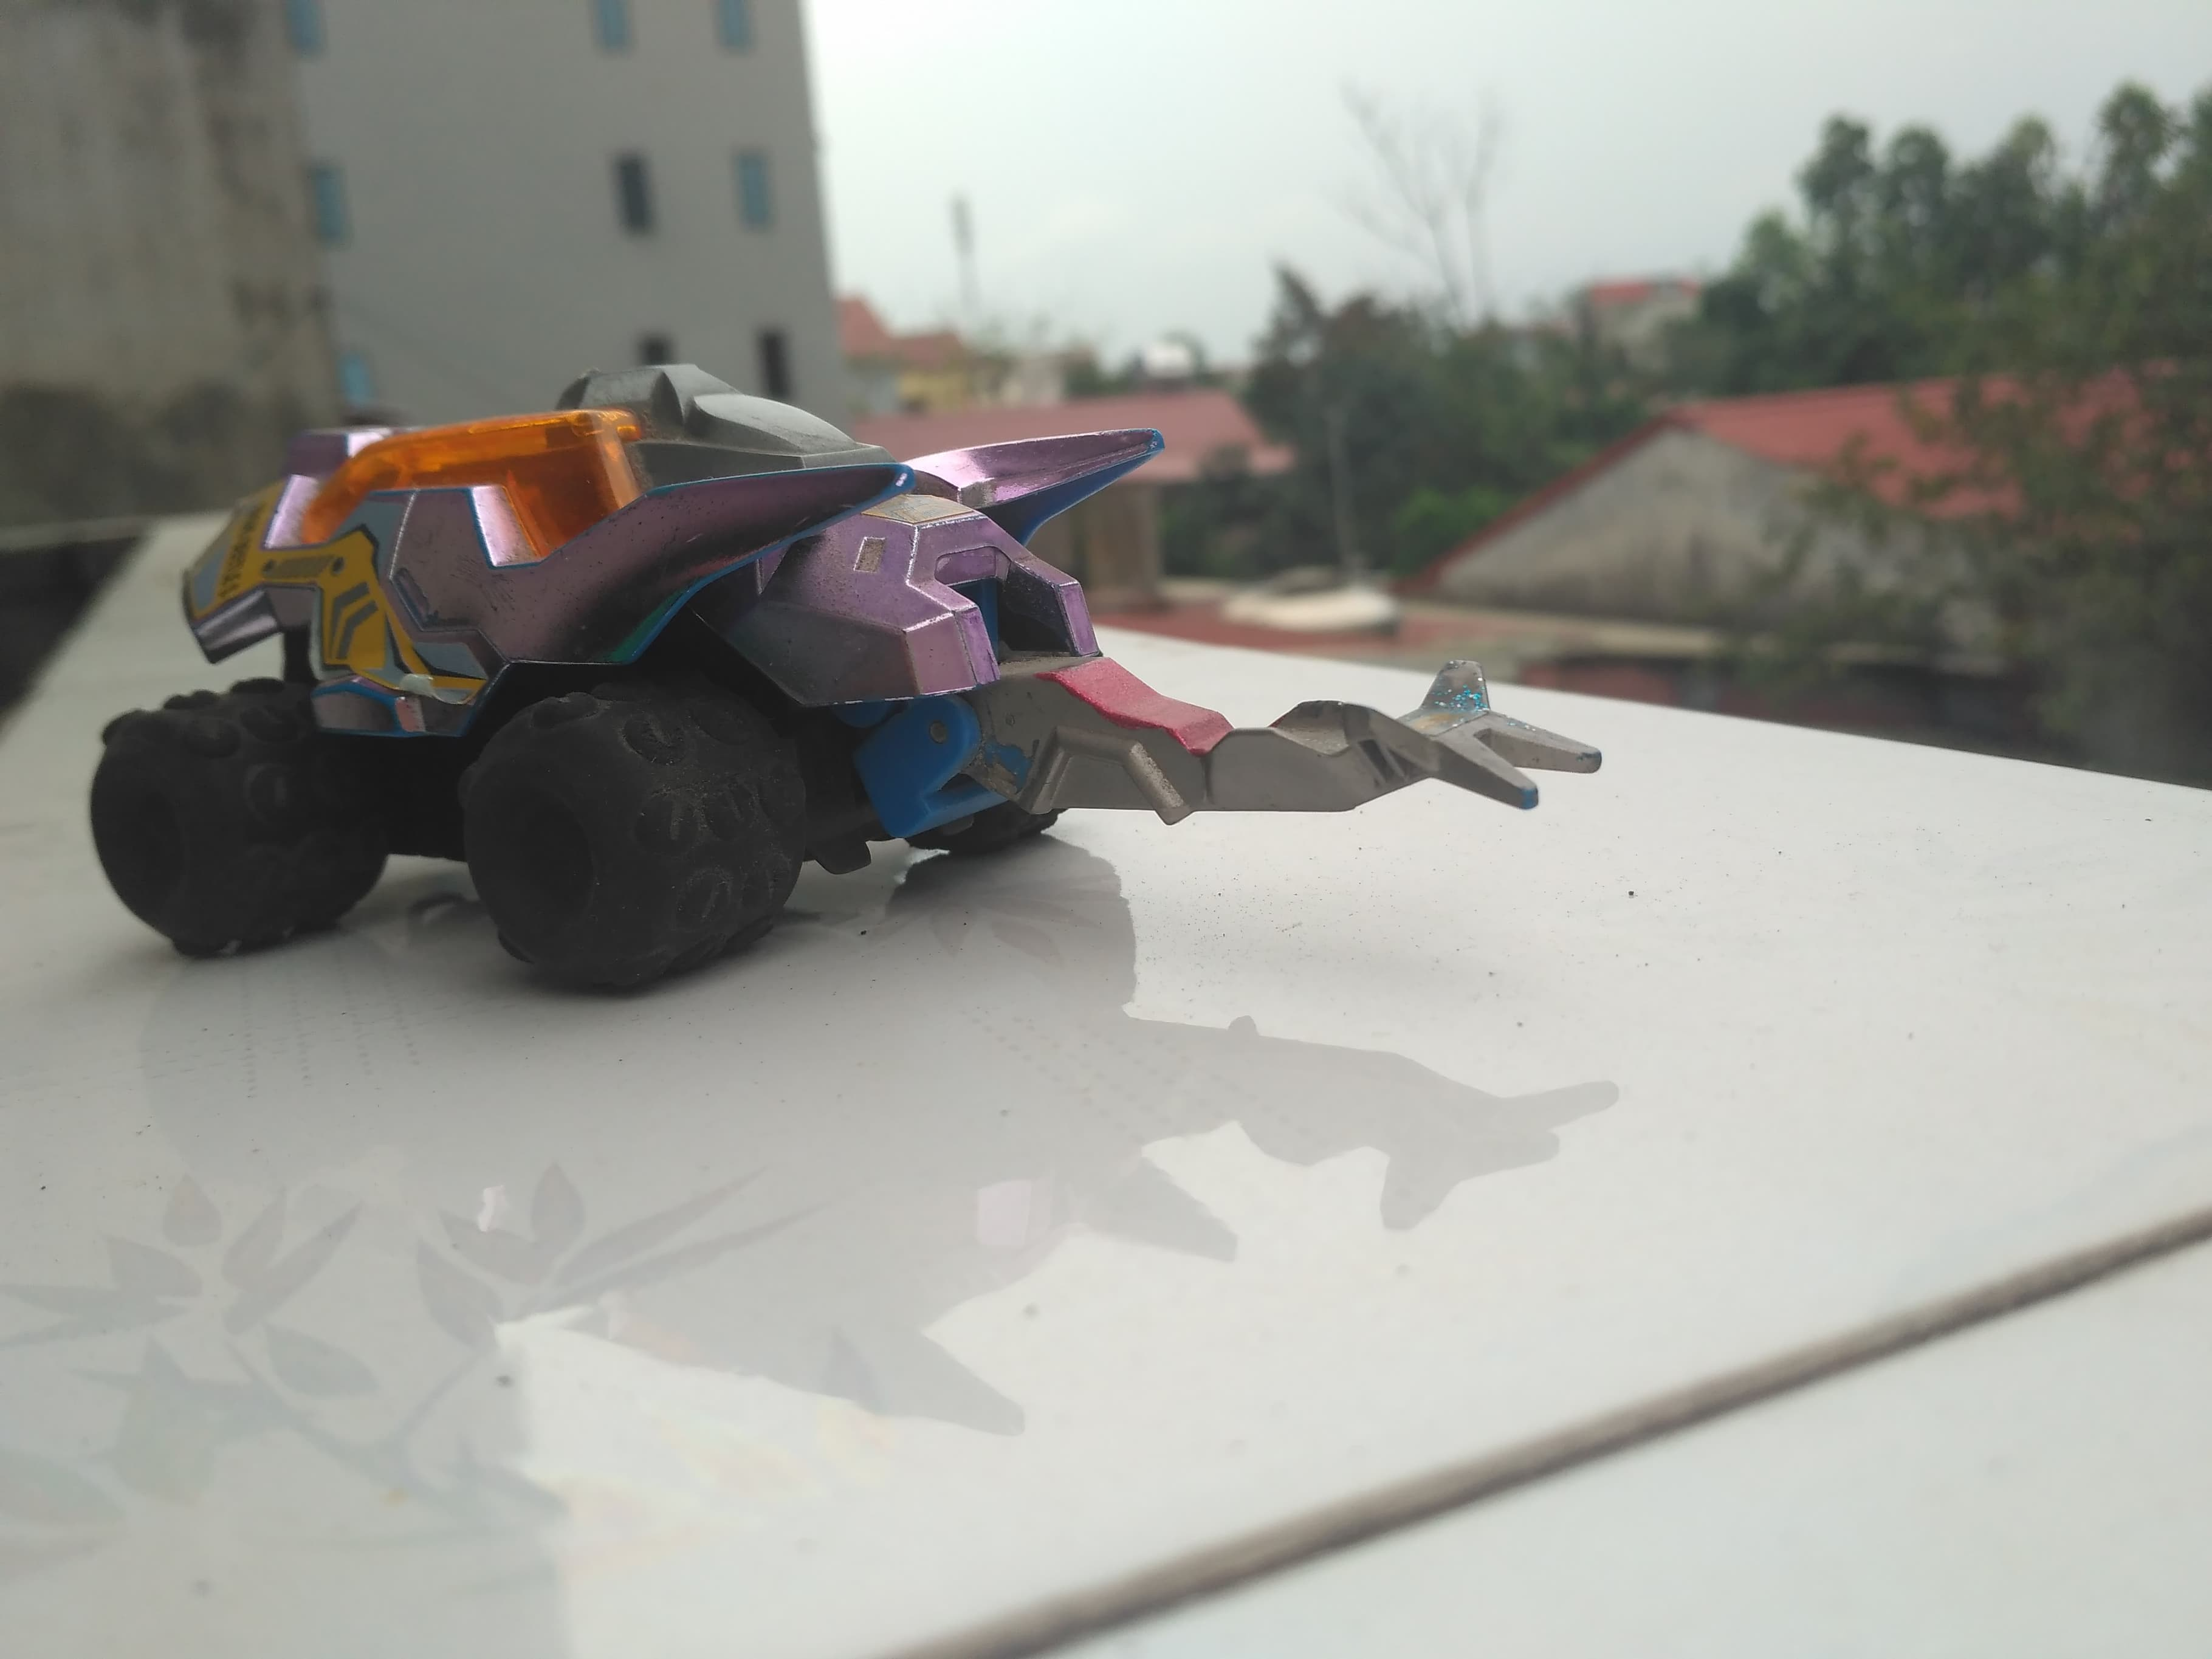rhino: (71, 355, 1616, 1011)
